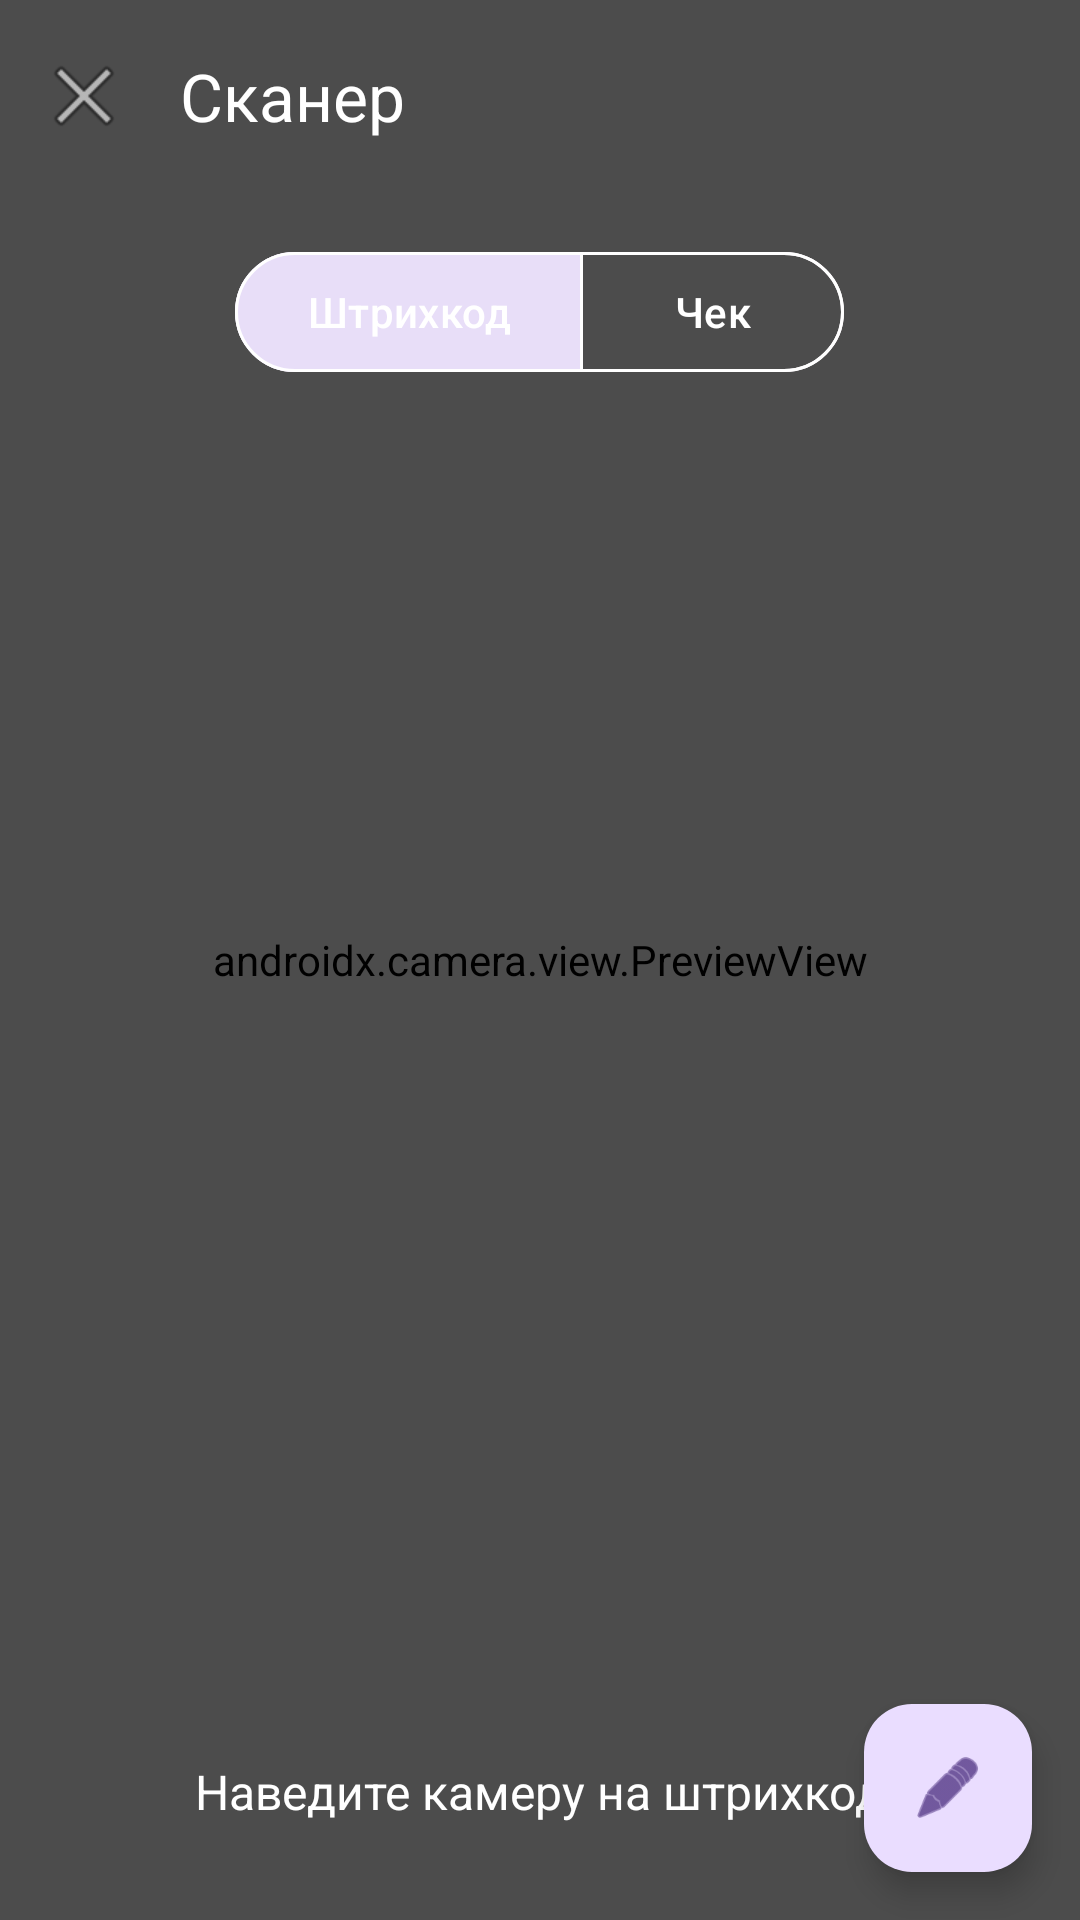

Icon click points for this 1080 x 1920 phone screenshot, format (x=x, y=y):
Ручной ввод: (x=948, y=1788)
